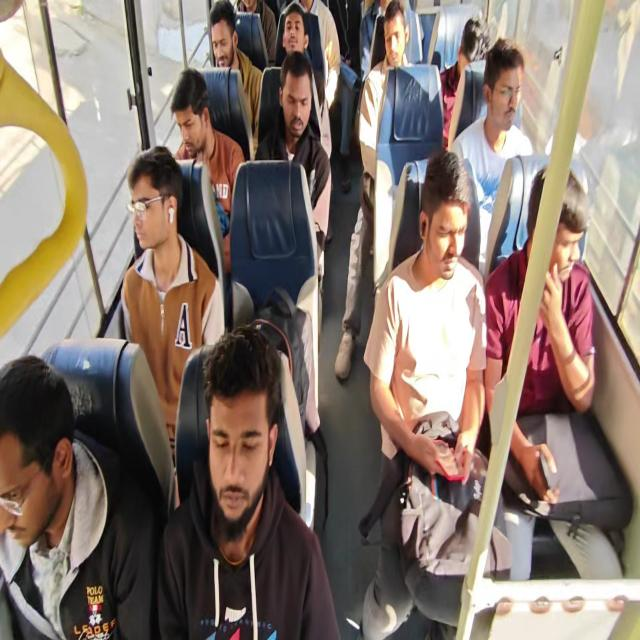person: (0, 384, 75, 544), (212, 358, 268, 522), (542, 186, 586, 277), (131, 168, 181, 248), (429, 185, 472, 271), (172, 83, 210, 159), (488, 62, 526, 132), (283, 68, 313, 144), (456, 16, 494, 72), (209, 18, 237, 65), (384, 20, 404, 70), (282, 19, 301, 59)
